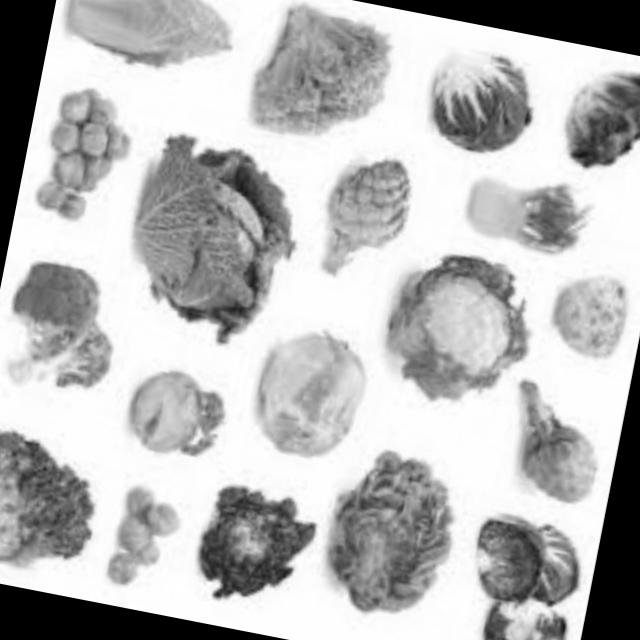bap cai ngot: (17, 62, 158, 243), (88, 458, 208, 618)
bong cai xanh: (0, 244, 143, 414)
cai bap: (282, 366, 476, 624), (120, 121, 332, 356), (248, 300, 384, 486), (445, 483, 606, 640), (427, 27, 547, 161)
sup lo: (372, 237, 556, 424)
xa lach: (226, 0, 418, 154), (0, 419, 111, 600), (47, 0, 248, 91)
